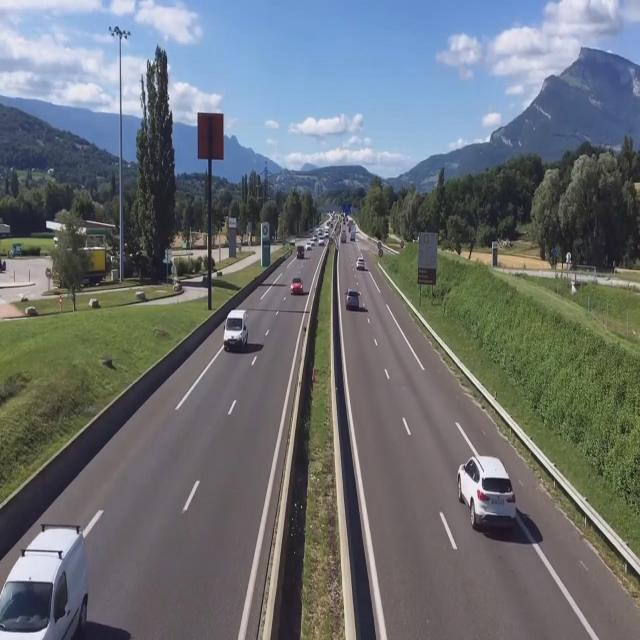car: (2, 521, 92, 640), (458, 455, 520, 538), (222, 313, 248, 354), (346, 287, 360, 311), (290, 276, 304, 294), (355, 258, 366, 272)
